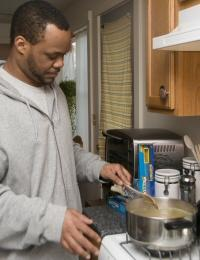person: (2, 2, 133, 260)
